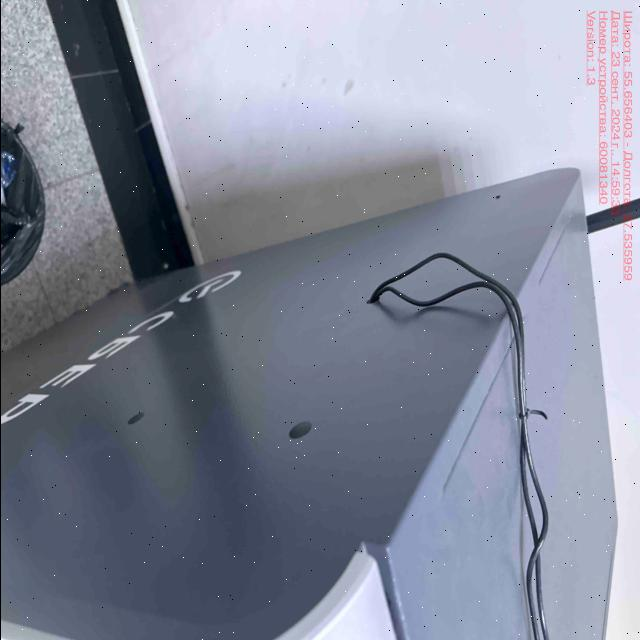bank: (0, 167, 617, 640)
